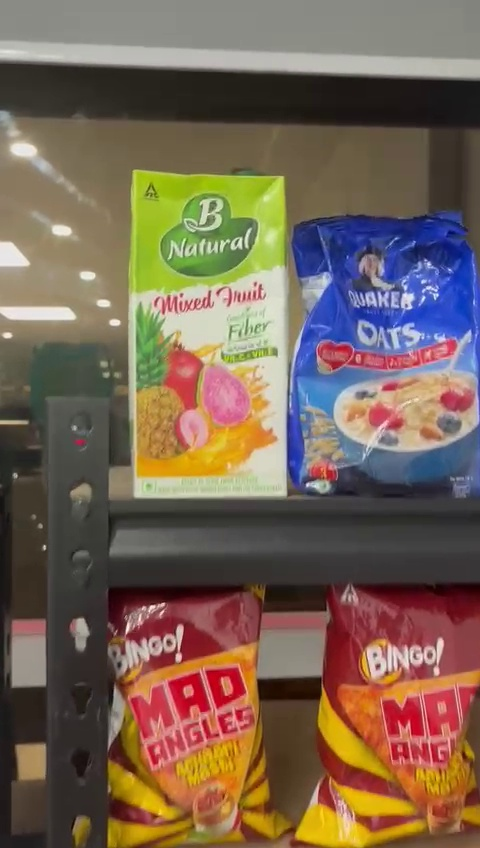Bingo Mad Angles: (105, 592, 268, 848), (329, 585, 480, 842)
Mixed Fruit: (131, 170, 286, 499)
Quaker Oats: (289, 223, 480, 491)
